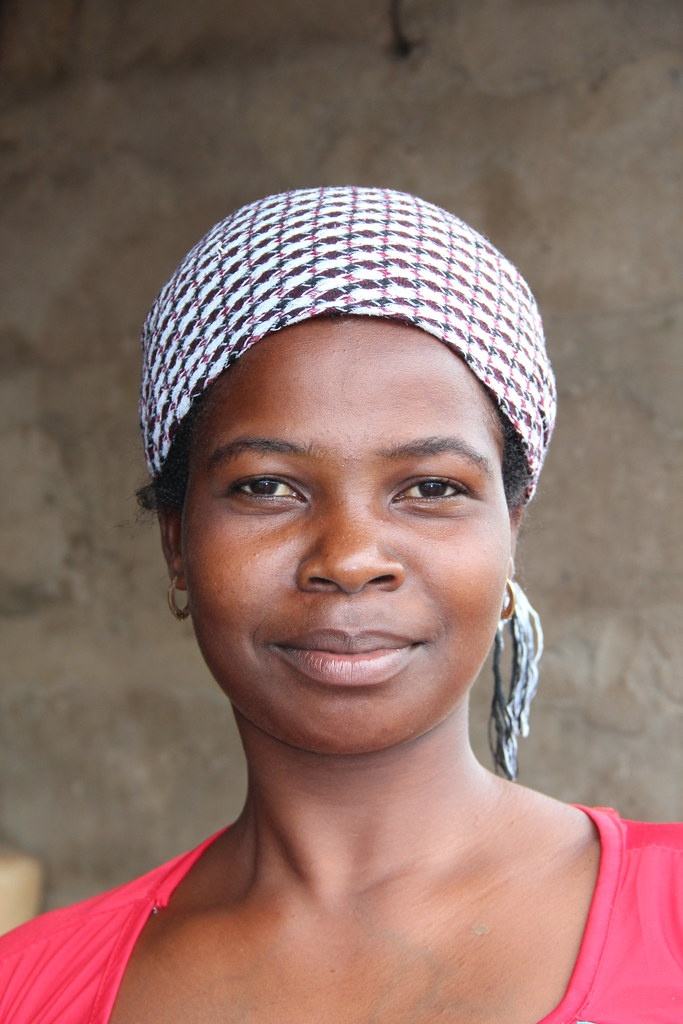without_mask: (145, 282, 526, 749)
